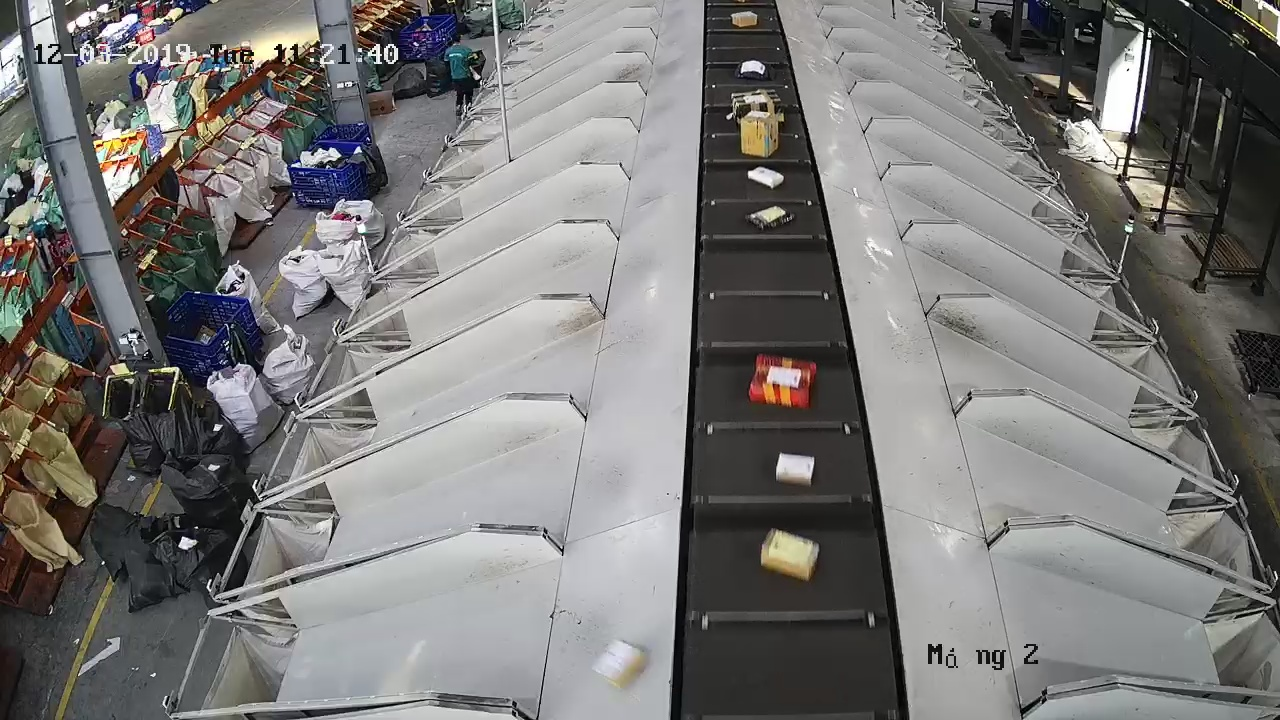parcel: (748, 353, 818, 411), (759, 527, 821, 584), (590, 637, 650, 693), (775, 450, 817, 489), (744, 204, 796, 232), (746, 165, 786, 191)
